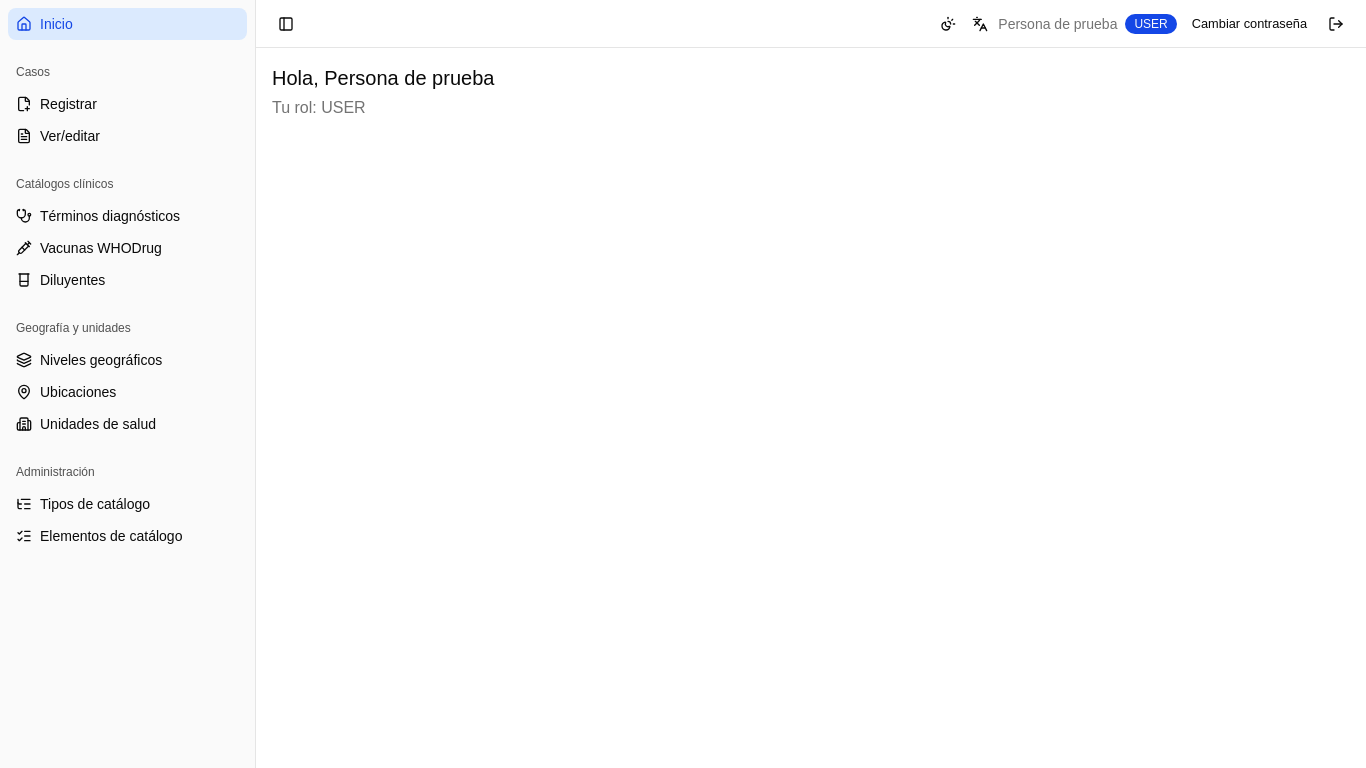
Ruta /diagnostic-terms — navegación desde el sidebar › con USER, el ítem es un enlace y lleva al listado
The width and height of the screenshot is (1366, 768).
Click the link "Términos diagnósticos" at point(98, 216), box [16,208,180,224]
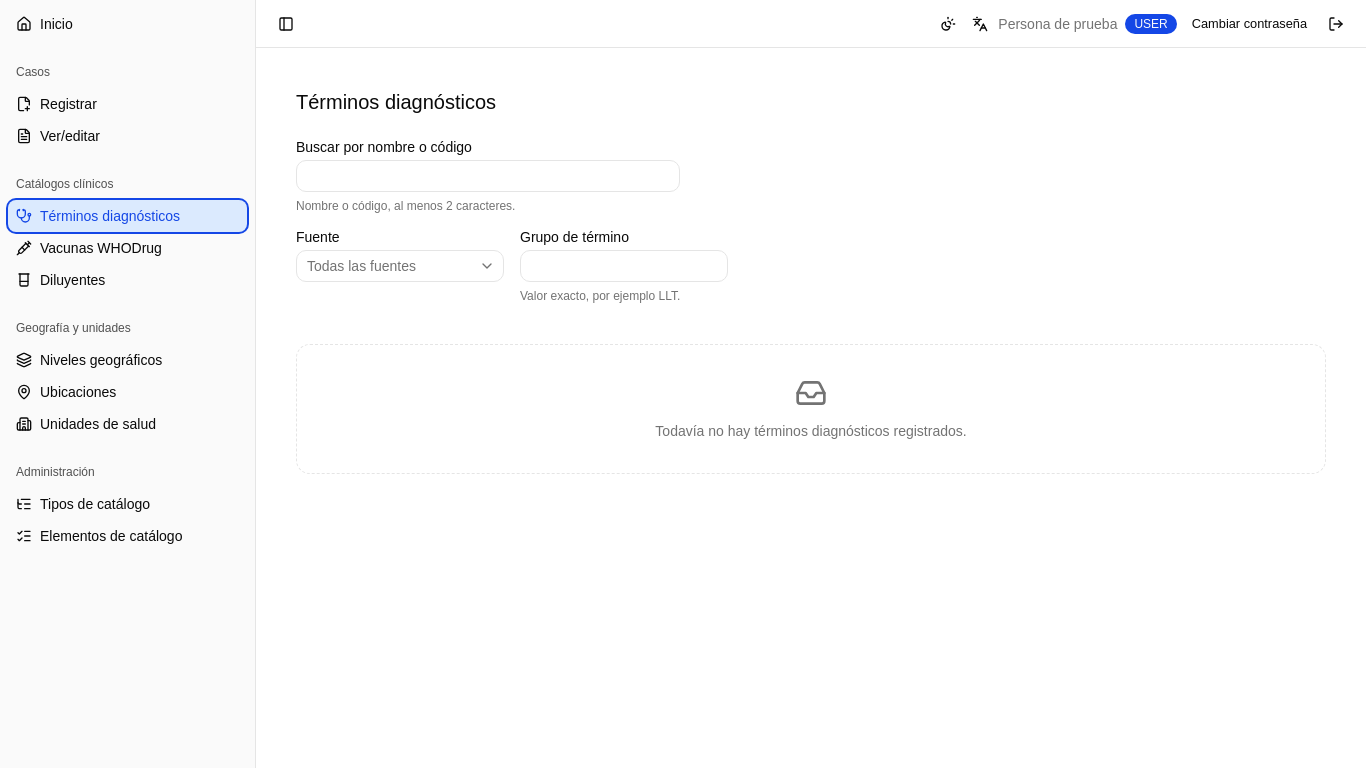
Now the heading "Términos diagnósticos" is shown, box [296,88,496,116]
